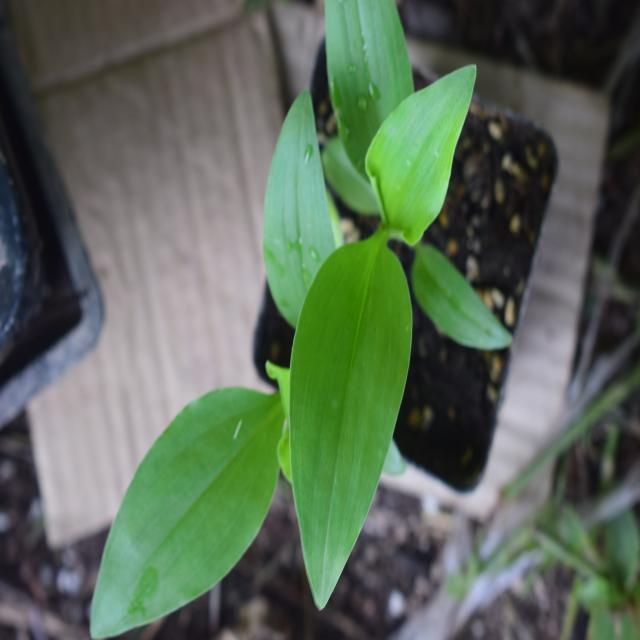Common Dayflower: (291, 25, 499, 588), (80, 310, 296, 608)
